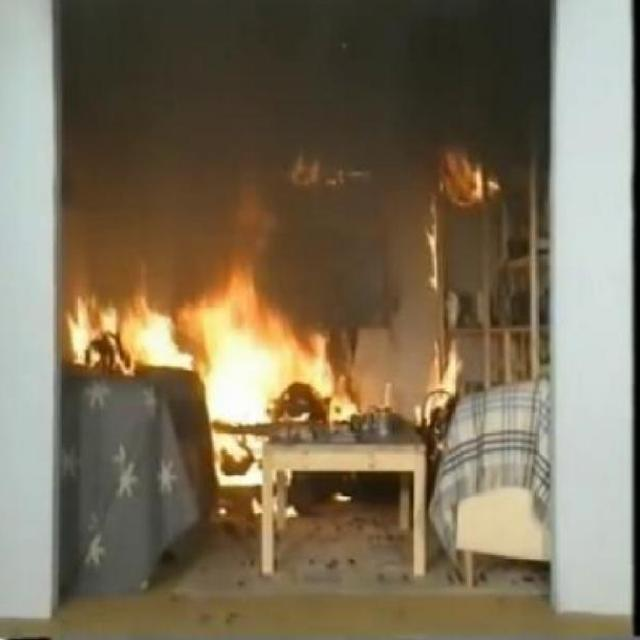smoke: (65, 247, 358, 486), (426, 326, 464, 424), (436, 157, 488, 213), (416, 222, 449, 295)
